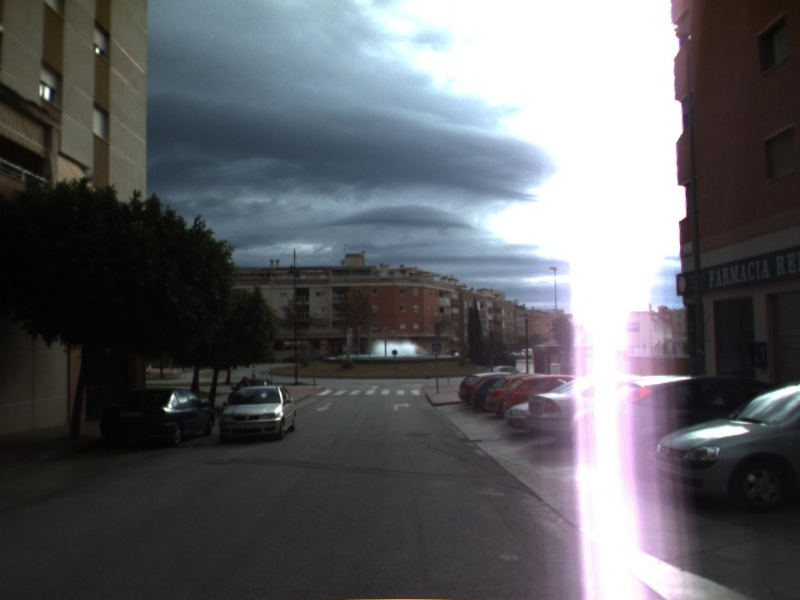RIGHT: (391, 400, 413, 413)
